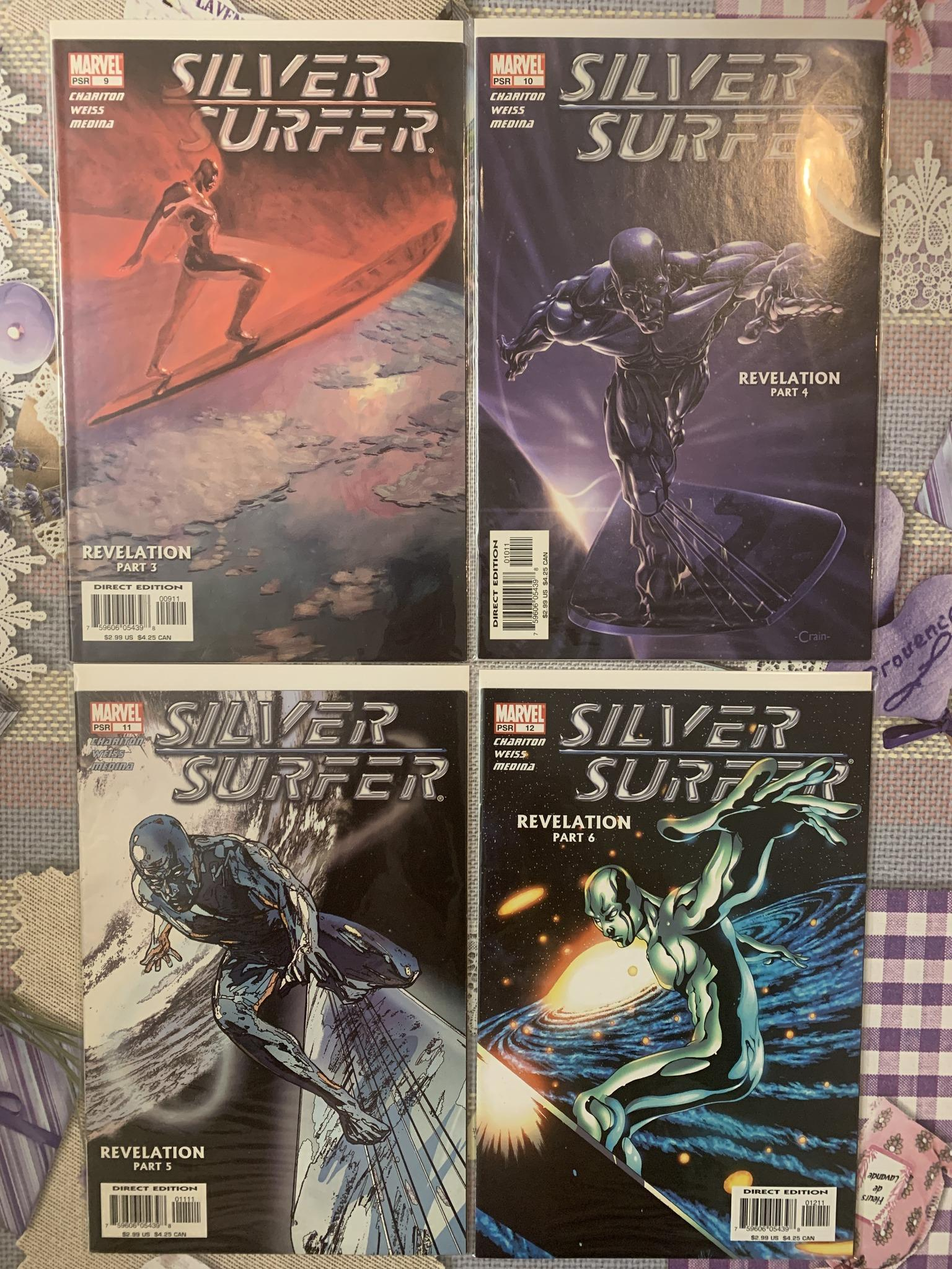comic: (53, 21, 465, 663), (475, 19, 885, 659), (474, 669, 872, 1261), (77, 666, 467, 1254)
